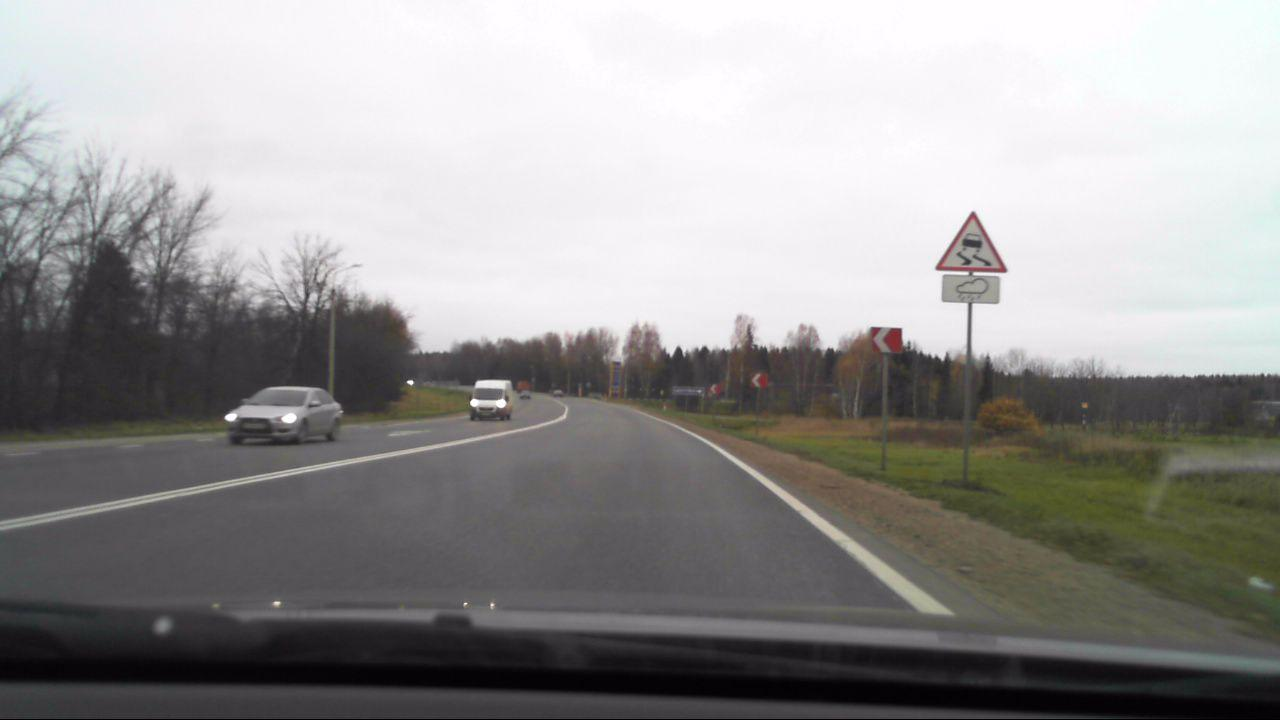1_15: (933, 210, 1011, 273)
1_34_2: (871, 323, 906, 355), (751, 369, 768, 388), (709, 383, 722, 395)
8_16: (942, 274, 1001, 306)
